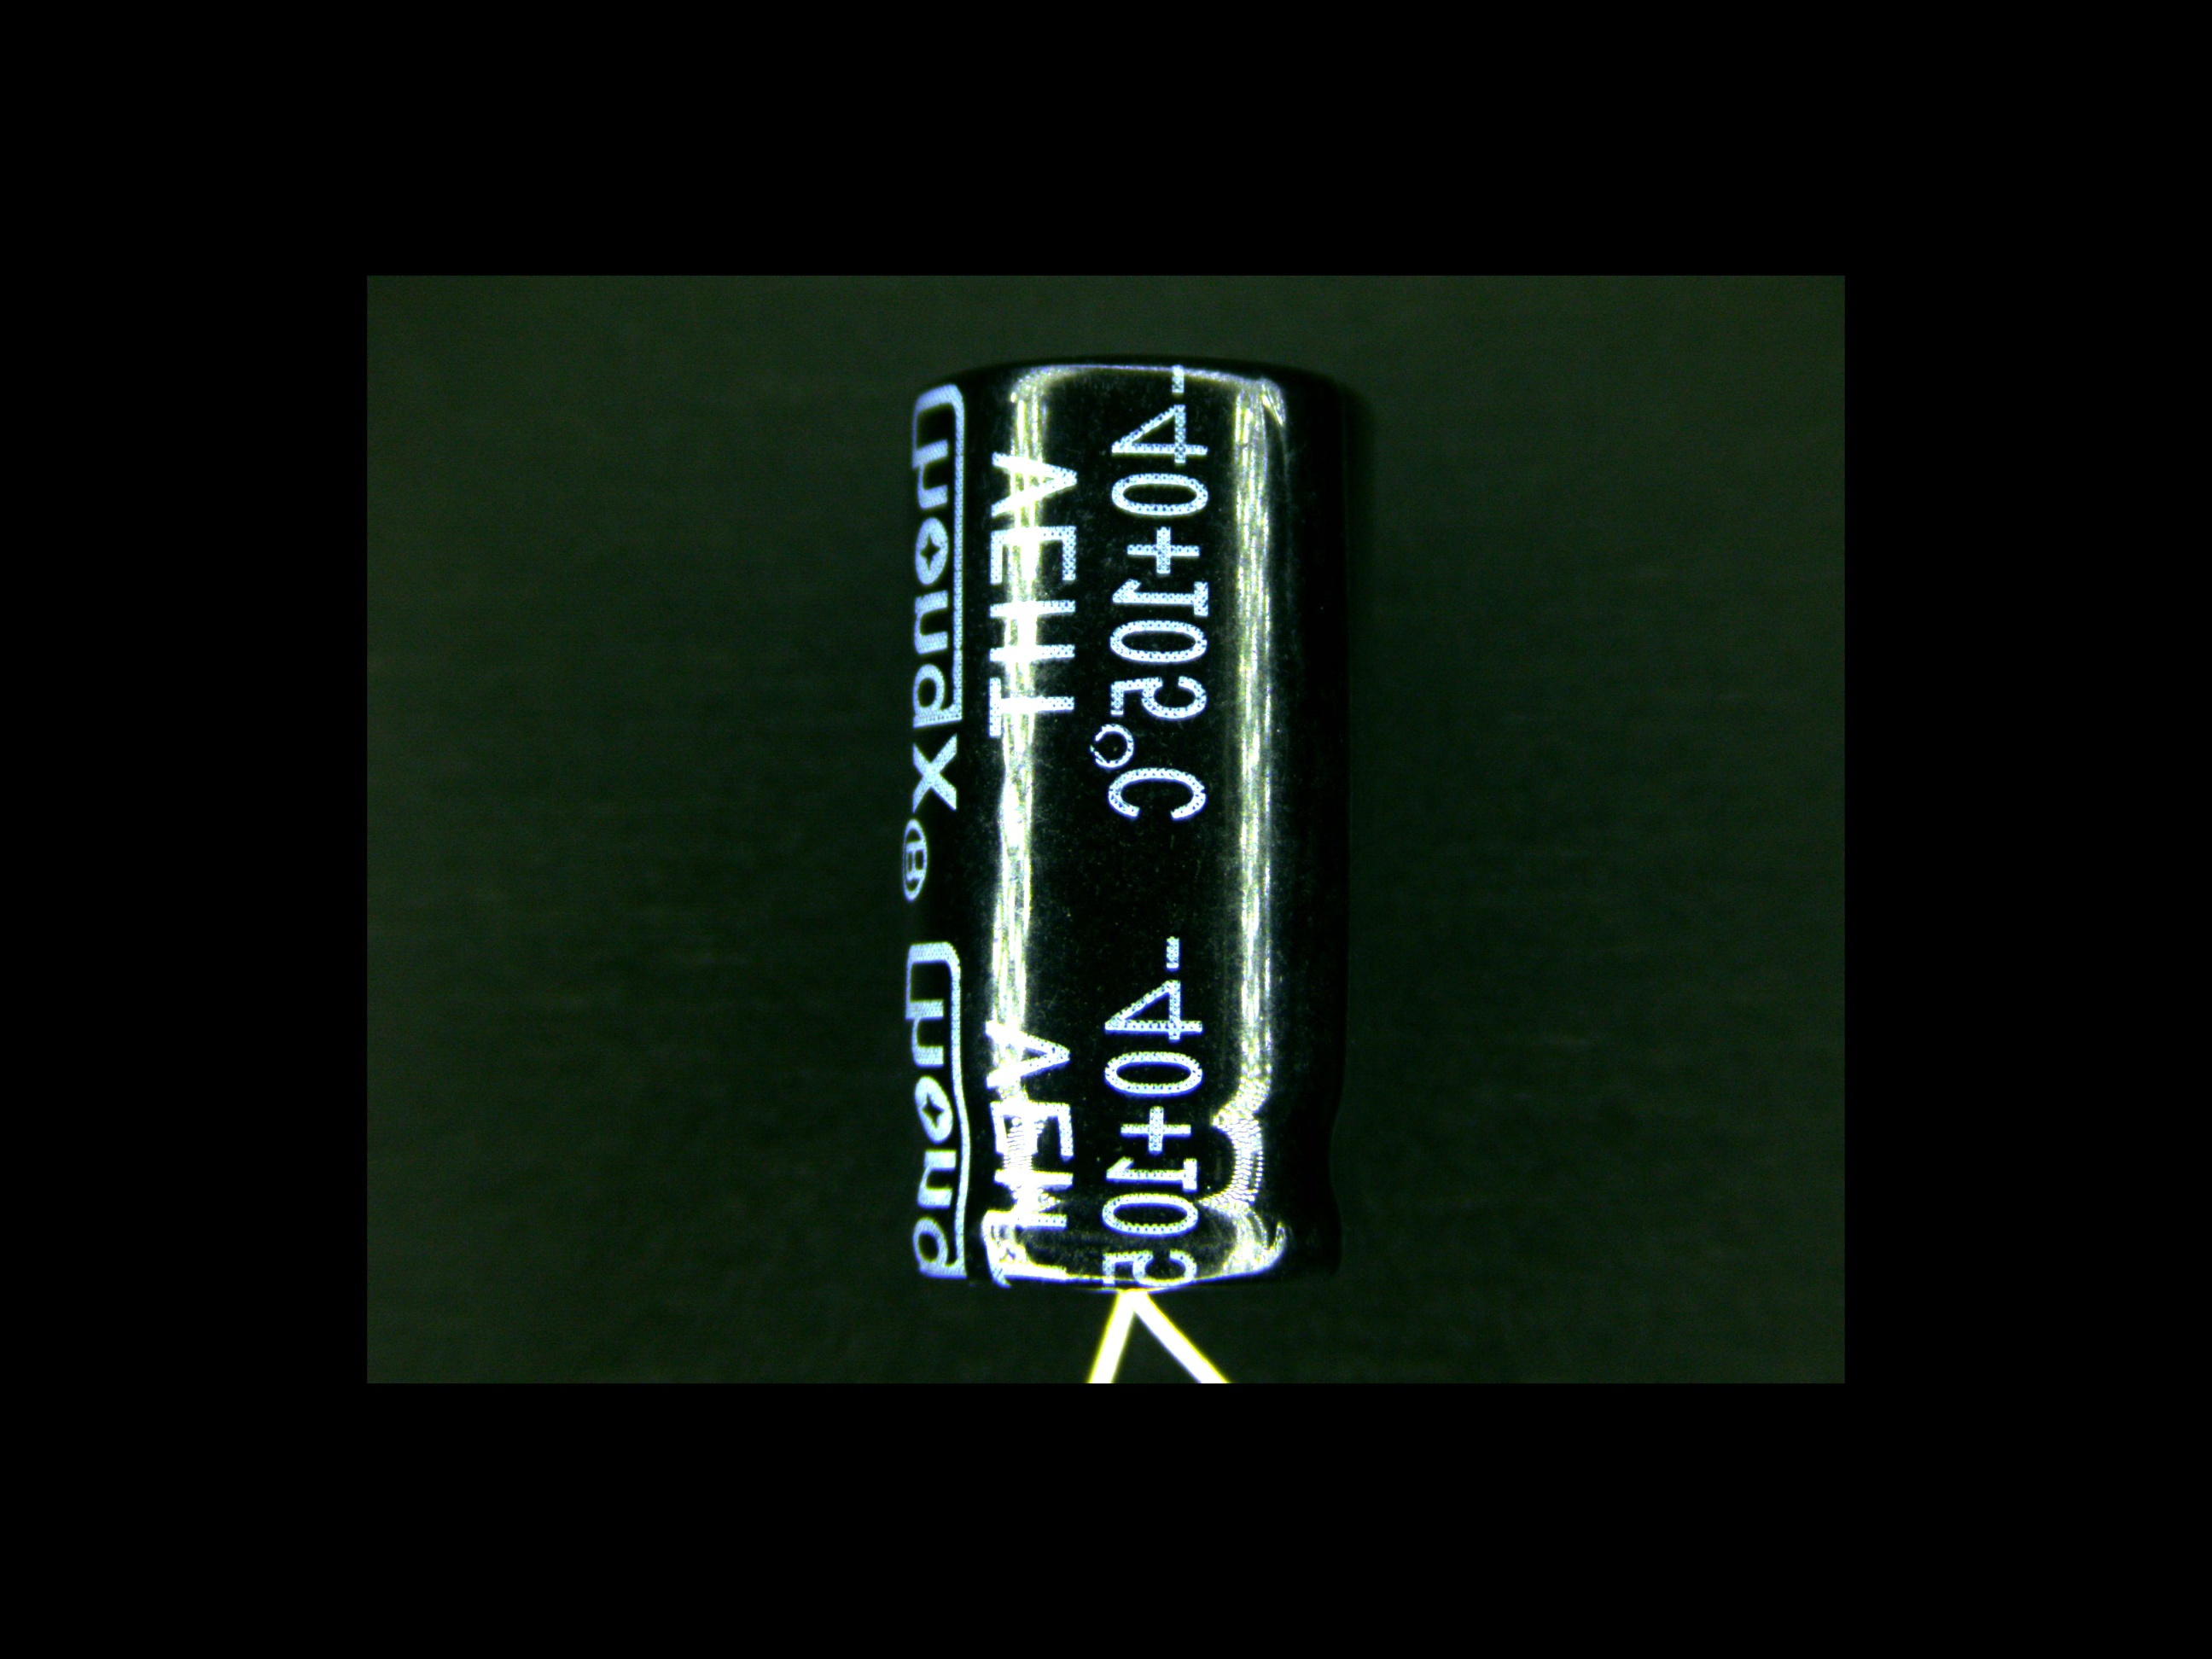c3: (888, 354, 1369, 1340)
